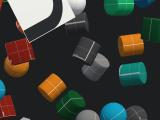Left: (8, 0, 76, 43)
